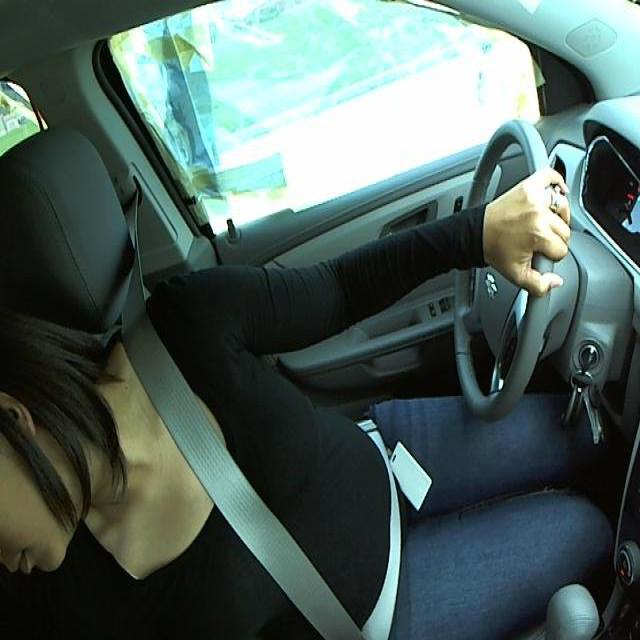seatbelt: (137, 388, 409, 639)
